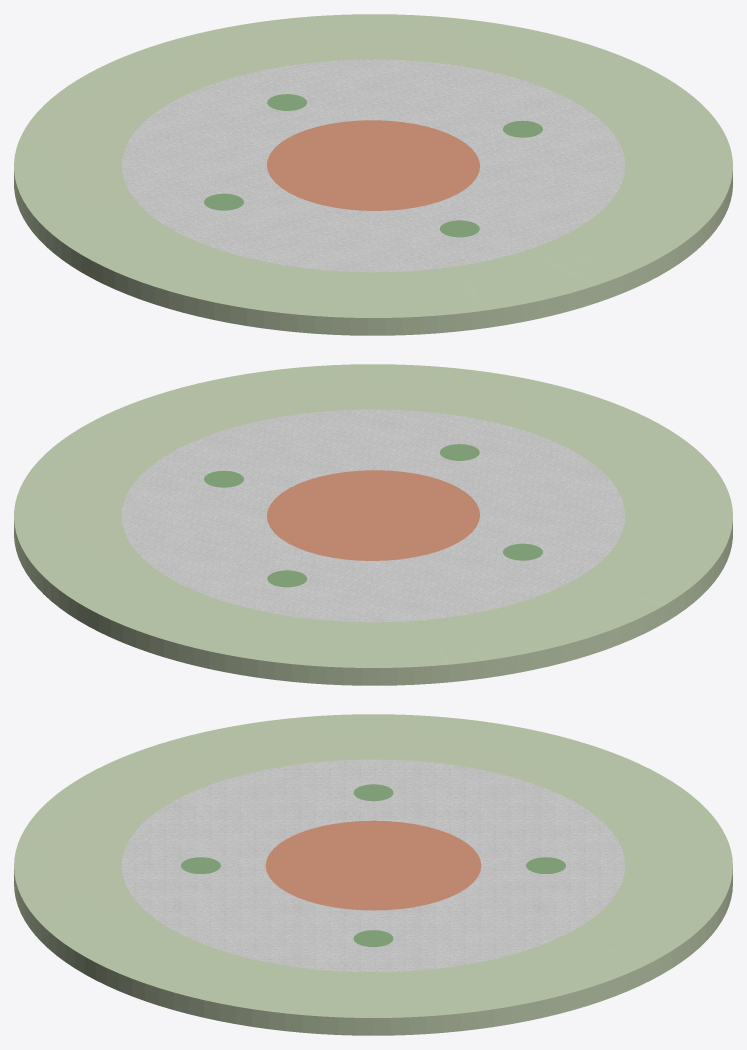
The model's file is round-rug.glb.
The picture shows the model from 3 angles, top to bottom: view 1: azimuth 30°, elevation 25°; view 2: azimuth 150°, elevation 25°; view 3: azimuth 270°, elevation 25°; orthographic projection.
Visible parts, largest first — view 1: catalog_surface_RealismUV; view 2: catalog_surface_RealismUV; view 3: catalog_surface_RealismUV.
Part boxes in pixels (bbox=[...]): catalog_surface_RealismUV: bbox=[14, 14, 732, 335]; catalog_surface_RealismUV: bbox=[14, 364, 732, 685]; catalog_surface_RealismUV: bbox=[14, 714, 732, 1035].
Size of the model in its own units: 1.8 by 0.0505 by 1.8.
5 materials, 2 textured.
